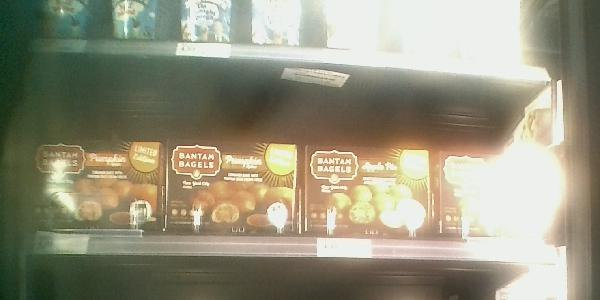icecream: (307, 135, 437, 236), (27, 136, 166, 230), (171, 137, 301, 233), (439, 137, 556, 237)
